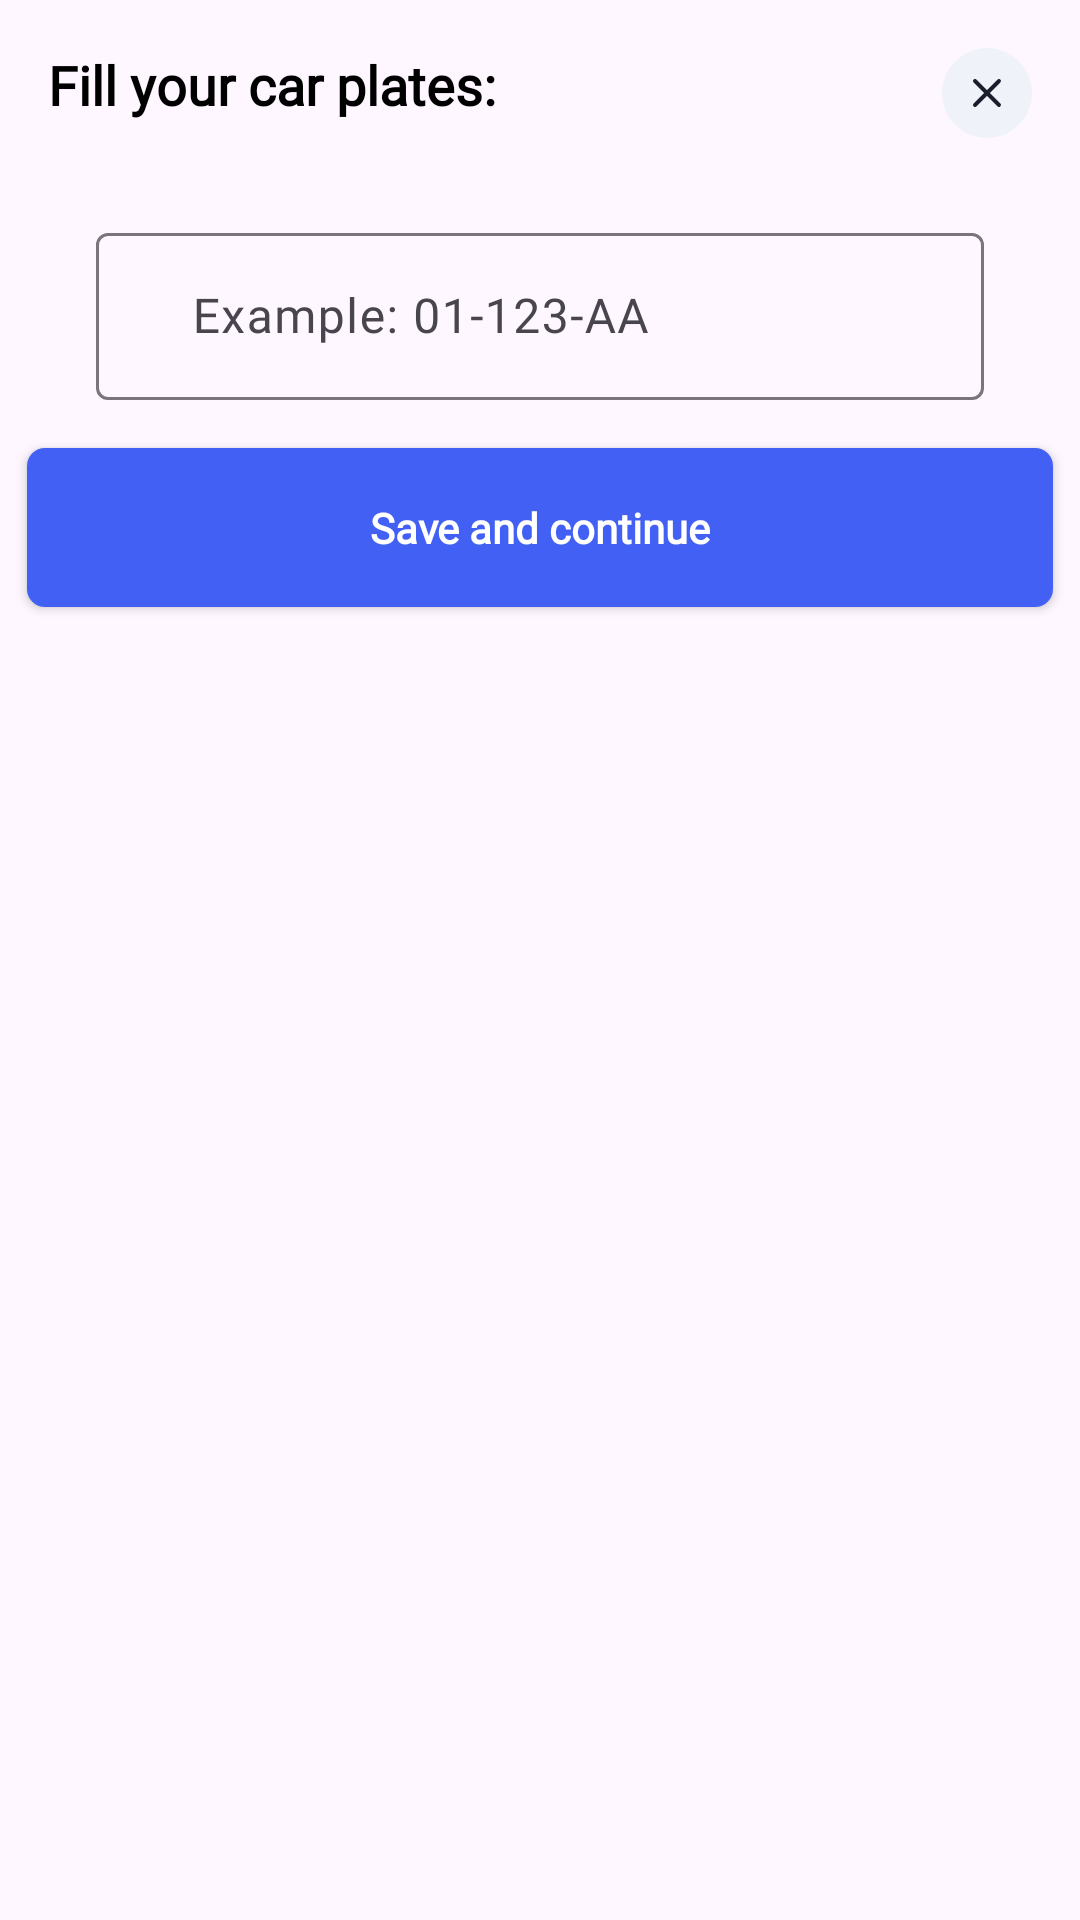

Icon bounding boxes for this 1080*1920 phone screenshot, format (x1, y1, x2, y2):
close: (942, 48, 1032, 138)
